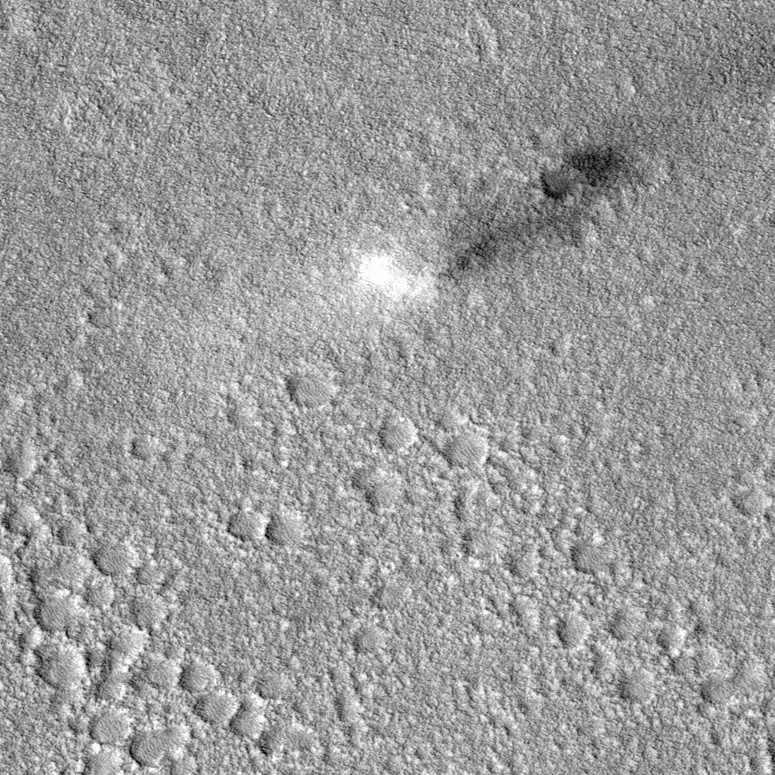dust_devil: (340, 133, 660, 322)
